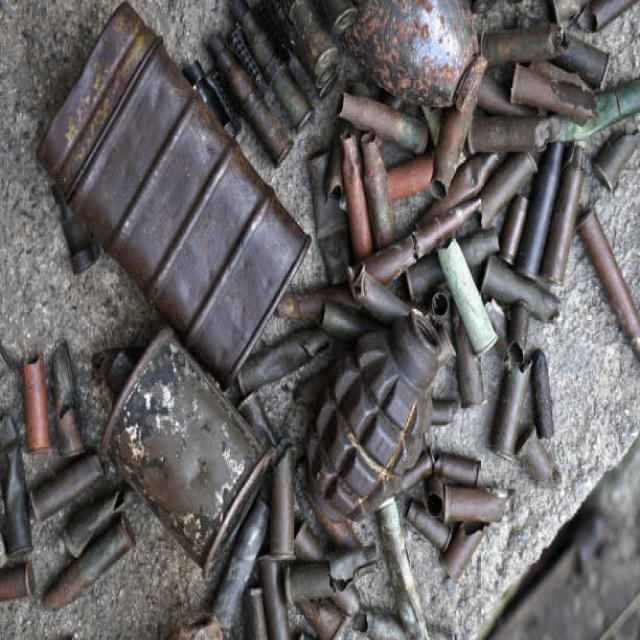grenade: (298, 296, 451, 539)
